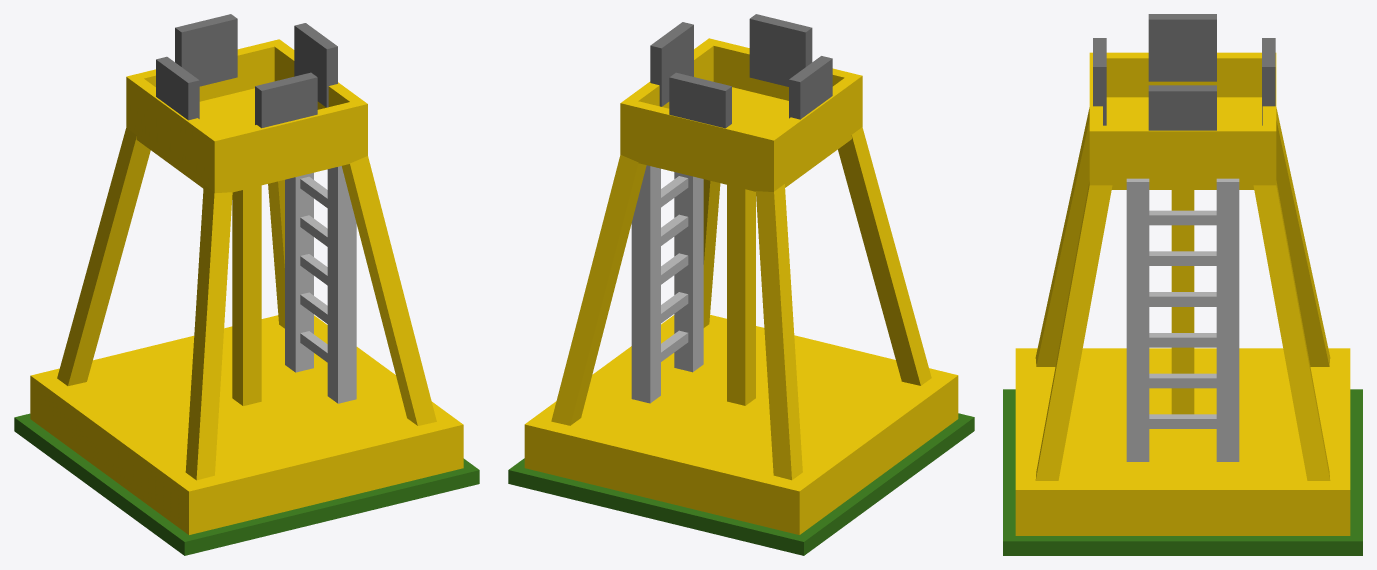
The model's file is lvl26.glb.
3 views of the same model, side by side, from view 1: azimuth 30°, elevation 25°; view 2: azimuth 150°, elevation 25°; view 3: azimuth 270°, elevation 25° (orthographic). The views are drawn at different scales.
Parts seen in each view (by area): view 1: Plane.025; view 2: Plane.025; view 3: Plane.025.
Boxes of the visible parts, left/top/right/bottom form: Plane.025: left=14, top=14, right=479, bottom=555; Plane.025: left=508, top=14, right=974, bottom=555; Plane.025: left=1003, top=14, right=1362, bottom=555.
Bounding box in the file's own units: 4 × 5.24 × 4.
